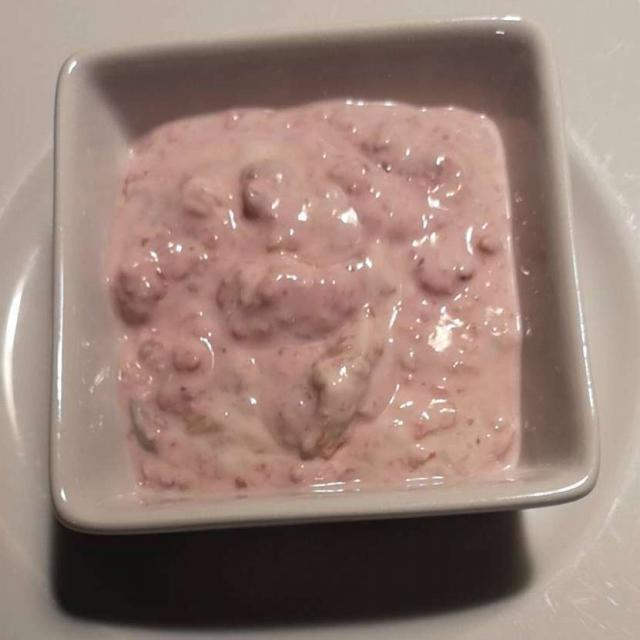birchermuesli: (114, 106, 528, 485)
